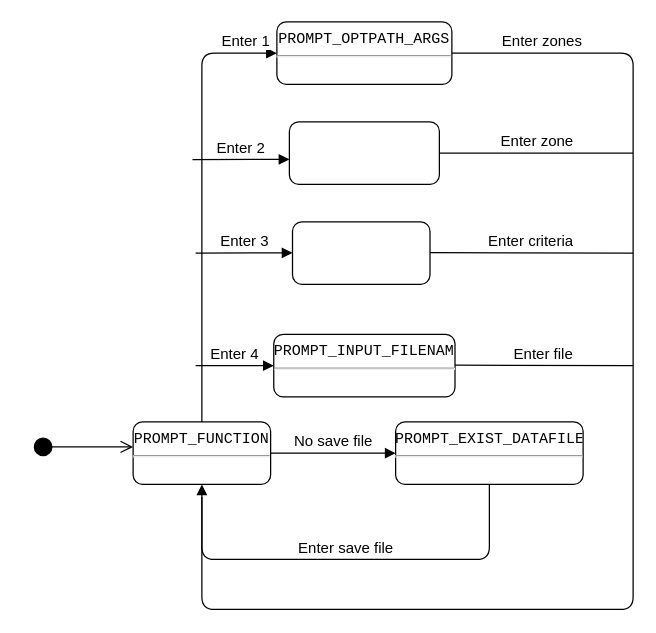
The diagram is 656 pixels wide and 633 high, and some of its shapes have lost their labels. Here are the shapes that lost their labels. From the top down, the centre of each, then its label:
At (363,152): "PROMPT_FZONE_ARGS".
At (360,252): "PROMPT_CRITERIA".
